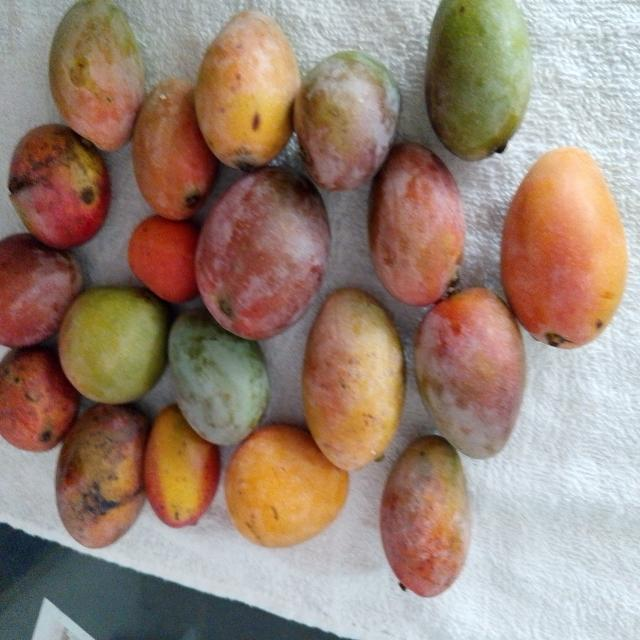mango: (501, 148, 627, 348), (196, 168, 330, 339), (415, 288, 525, 458), (303, 289, 404, 470), (426, 0, 531, 160), (195, 10, 300, 170), (369, 143, 465, 305), (225, 425, 348, 547), (294, 52, 400, 190), (49, 0, 144, 151), (381, 436, 470, 596), (169, 309, 268, 445), (56, 404, 148, 547), (59, 287, 168, 404), (8, 124, 110, 249), (132, 78, 217, 220), (144, 405, 220, 527), (0, 234, 82, 347), (0, 346, 79, 451), (126, 203, 204, 309)
